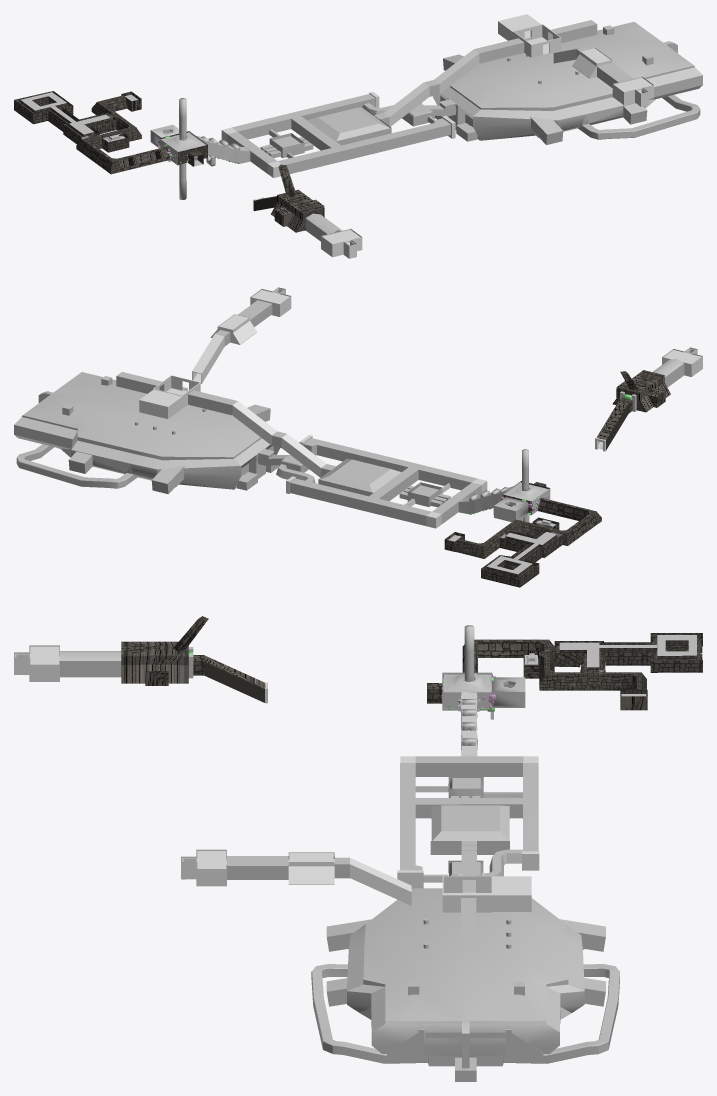
Rendered from Tomb8_LD.FBX.
The picture shows the model from 3 angles, top to bottom: view 1: azimuth 30°, elevation 25°; view 2: azimuth 150°, elevation 25°; view 3: azimuth 270°, elevation 25°; orthographic projection. The views are drawn at different scales.
Visible parts, largest first — view 1: BigRoom12, TombA2, TombR6_1, ThousandsEyesRoom, TombB_1, TombR_009, TombR6_003, TombR7_002, TombR7_1, TombR_Center, BigRoom07, TombL_006 (+12 smaller); view 2: BigRoom12, TombA2, TombR6_1, ThousandsEyesRoom, TombB_1, TombR_009, Entrance001, BigRoom07, TombF_005, TombR_015, TombL_006, TombR7_002 (+9 smaller); view 3: BigRoom12, TombA2, TombR6_1, ThousandsEyesRoom, TombB_1, TombR_009, TombA_1, TombL_016, BigRoom07, TombR_015, TombR7_002, TombF_005 (+8 smaller).
Boxes of the visible parts, x1,y1,x2,y2 form: BigRoom12: (433, 21, 702, 141); TombA2: (232, 94, 450, 173); TombR6_1: (76, 91, 169, 174); ThousandsEyesRoom: (14, 91, 116, 144); TombB_1: (306, 106, 391, 145); TombR_009: (271, 189, 324, 232); TombR6_003: (513, 24, 561, 57); TombR7_002: (612, 76, 653, 106); TombR7_1: (321, 228, 362, 258); TombR_Center: (159, 131, 207, 165); BigRoom07: (443, 54, 563, 144); TombL_006: (474, 38, 524, 63); BigRoom12: (14, 372, 279, 490); TombA2: (268, 438, 476, 525); TombR6_1: (444, 498, 601, 558); ThousandsEyesRoom: (481, 530, 562, 587); TombB_1: (318, 458, 402, 496); TombR_009: (612, 370, 670, 412); Entrance001: (139, 389, 182, 418); BigRoom07: (151, 404, 270, 494); TombF_005: (596, 398, 632, 450); TombR_015: (210, 314, 256, 344); TombL_006: (188, 390, 237, 415); TombR7_002: (250, 287, 291, 316); BigRoom12: (311, 888, 619, 1081); TombA2: (400, 763, 538, 882); TombR6_1: (462, 639, 647, 710); ThousandsEyesRoom: (554, 633, 702, 672); TombB_1: (430, 804, 509, 854); TombR_009: (121, 641, 188, 685); TombA_1: (415, 756, 523, 776); TombL_016: (60, 651, 121, 677); BigRoom07: (326, 919, 605, 951); TombR_015: (288, 852, 334, 884); TombR7_002: (181, 849, 226, 886); TombF_005: (193, 655, 265, 702).
Bounding box in the file's own units: 23236 × 4063 × 17928.
